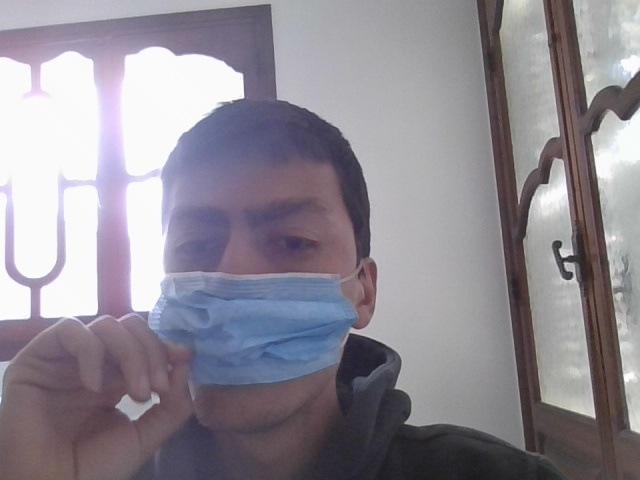mask_weared_incorrect: (152, 114, 371, 429)
